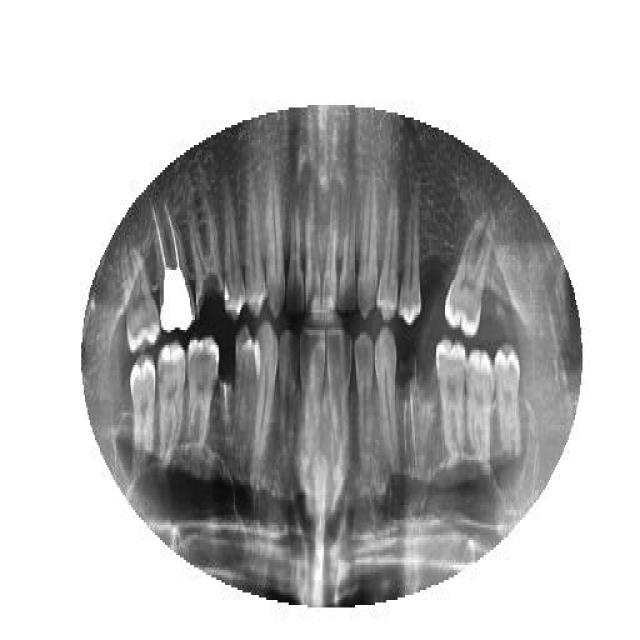Cavity: (186, 187, 228, 325), (395, 345, 419, 467), (219, 375, 236, 453)
Implant: (153, 205, 195, 333)
